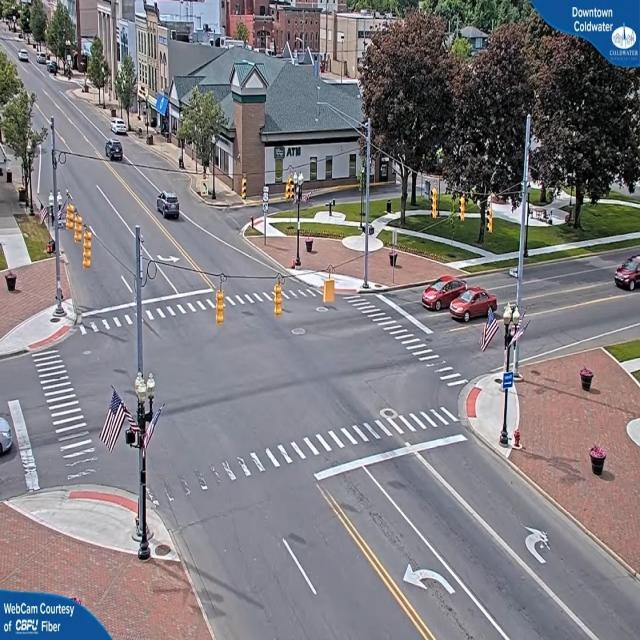car: (451, 288, 496, 324), (418, 279, 458, 311), (614, 252, 640, 292), (1, 411, 18, 460), (156, 192, 182, 221), (108, 142, 126, 162), (111, 121, 130, 138), (18, 52, 29, 64)
